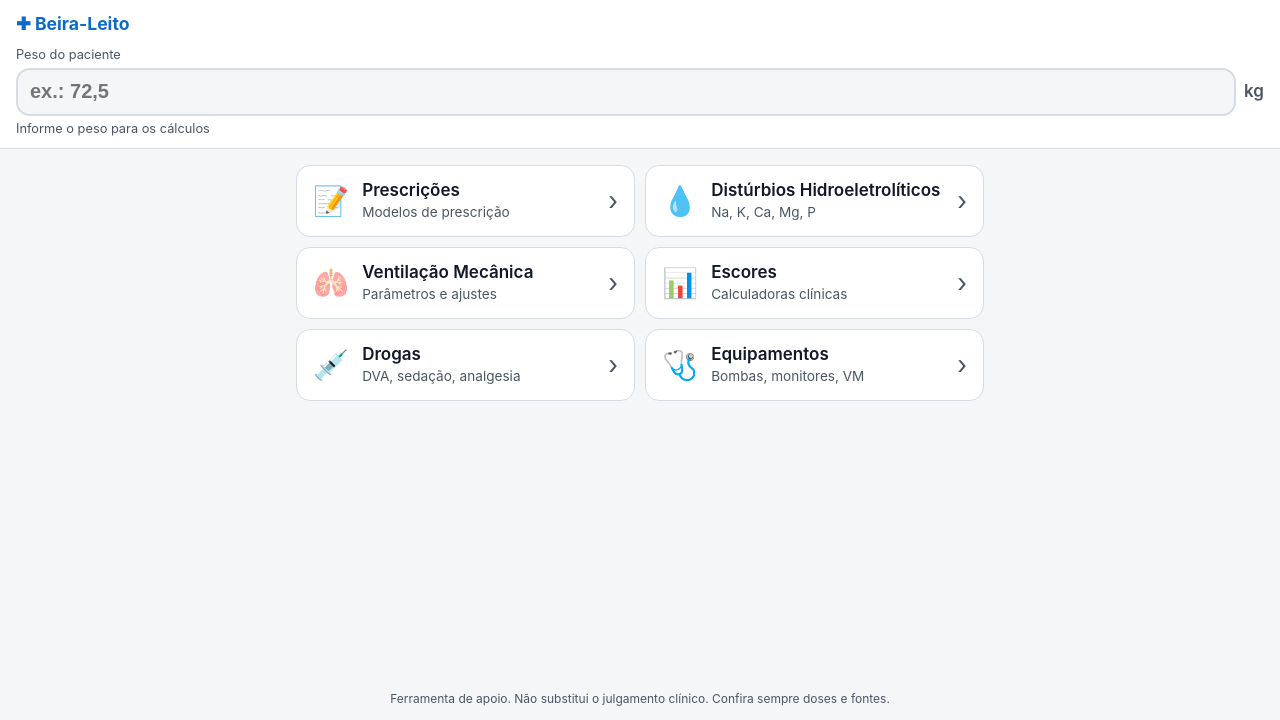
Test case: página inicial › abre a página "Escores"
Click the link "📊 Escores Calculadoras clínicas ›" at x=680, y=282, box x1=645 y1=247 x2=984 y2=319
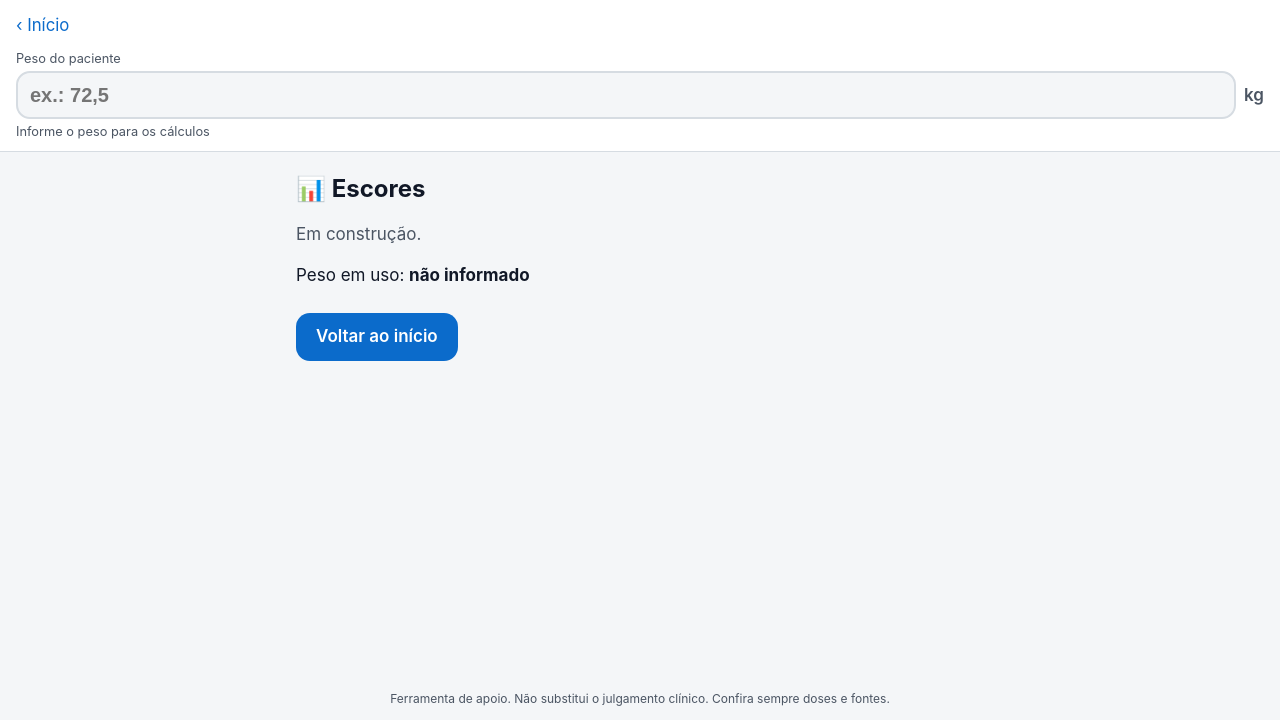
Now the heading shows "Escores", box x1=332 y1=174 x2=425 y2=203
Now the text "Em construção." is shown, box x1=296 y1=224 x2=421 y2=244
